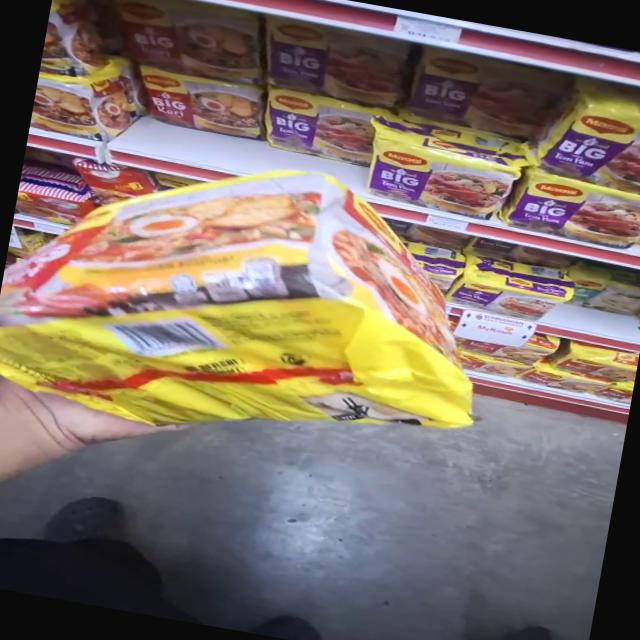Maggi: (0, 177, 515, 465)
